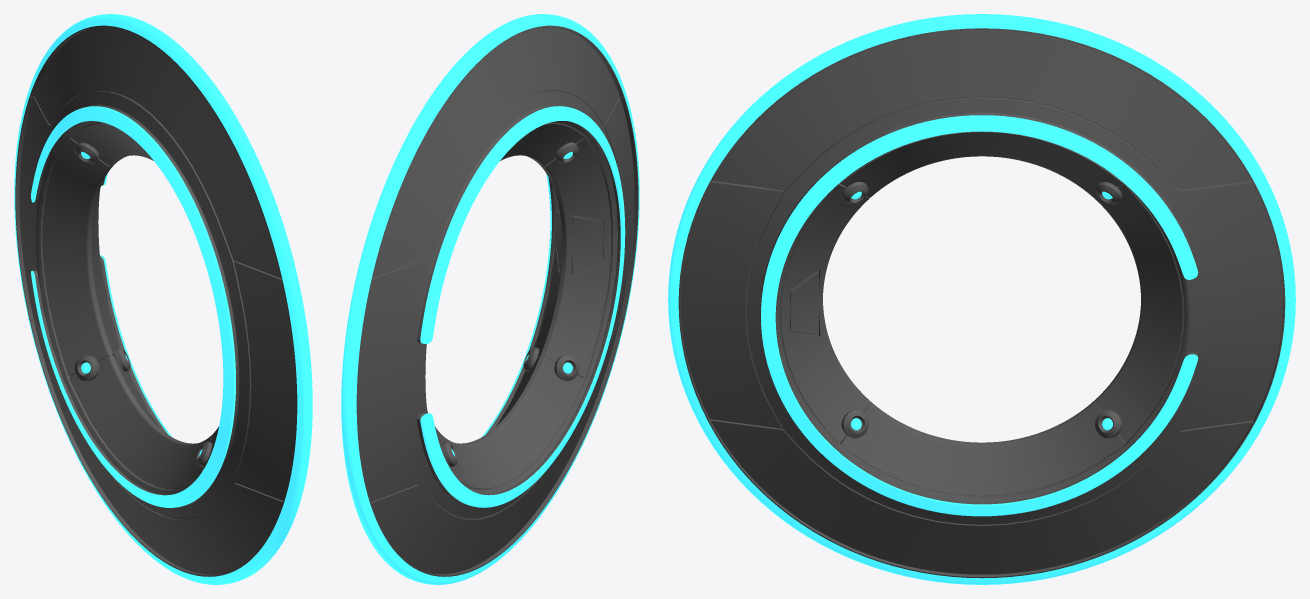
File: tron-disk.glb
3 views of the same model, side by side, from view 1: azimuth 30°, elevation 25°; view 2: azimuth 150°, elevation 25°; view 3: azimuth 270°, elevation 25° (orthographic). The views are drawn at different scales.
Visible parts, largest first — view 1: Disc_2; view 2: Disc_2; view 3: Disc_2.
Boxes of the visible parts, bbox=[...] form: Disc_2: bbox=[14, 14, 312, 584]; Disc_2: bbox=[341, 14, 639, 584]; Disc_2: bbox=[668, 14, 1295, 584].
Size of the model in its own units: 0.2844 by 1.99 by 1.99.
